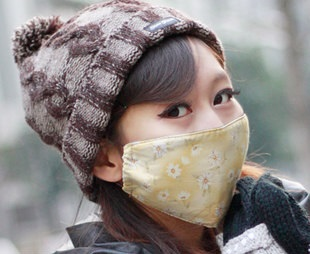face_mask: (122, 61, 250, 227)
